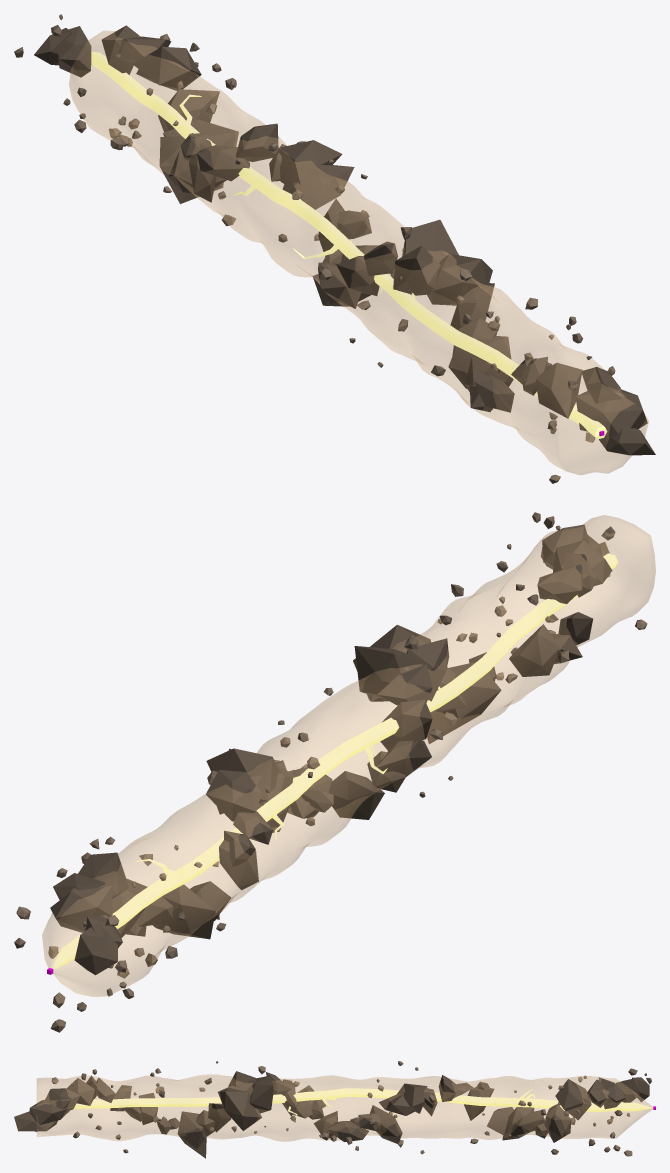
Rendered from EarthBeam.fbx.
3 views of the same model, one above another, from view 1: azimuth 30°, elevation 25°; view 2: azimuth 150°, elevation 25°; view 3: azimuth 270°, elevation 25° (orthographic). The views are drawn at different scales.
Visible parts, largest first — view 1: Dust, Rocks, Core.006, Pebbles; view 2: Dust, Rocks, Core.006, Pebbles; view 3: Dust, Rocks, Core.006, Pebbles.
Part boxes in pixels (bbox=[...]): Dust: bbox=[69, 31, 648, 474]; Rocks: bbox=[34, 25, 655, 455]; Core.006: bbox=[91, 51, 607, 439]; Pebbles: bbox=[14, 14, 615, 483]; Dust: bbox=[42, 515, 655, 996]; Rocks: bbox=[50, 524, 612, 975]; Core.006: bbox=[51, 553, 618, 969]; Pebbles: bbox=[14, 512, 647, 1032]; Dust: bbox=[37, 1074, 652, 1141]; Rocks: bbox=[14, 1071, 649, 1158]; Core.006: bbox=[74, 1088, 652, 1120]; Pebbles: bbox=[35, 1061, 651, 1156].
Bounding box in the file's own units: 3.67 × 3.81 × 24.93.
